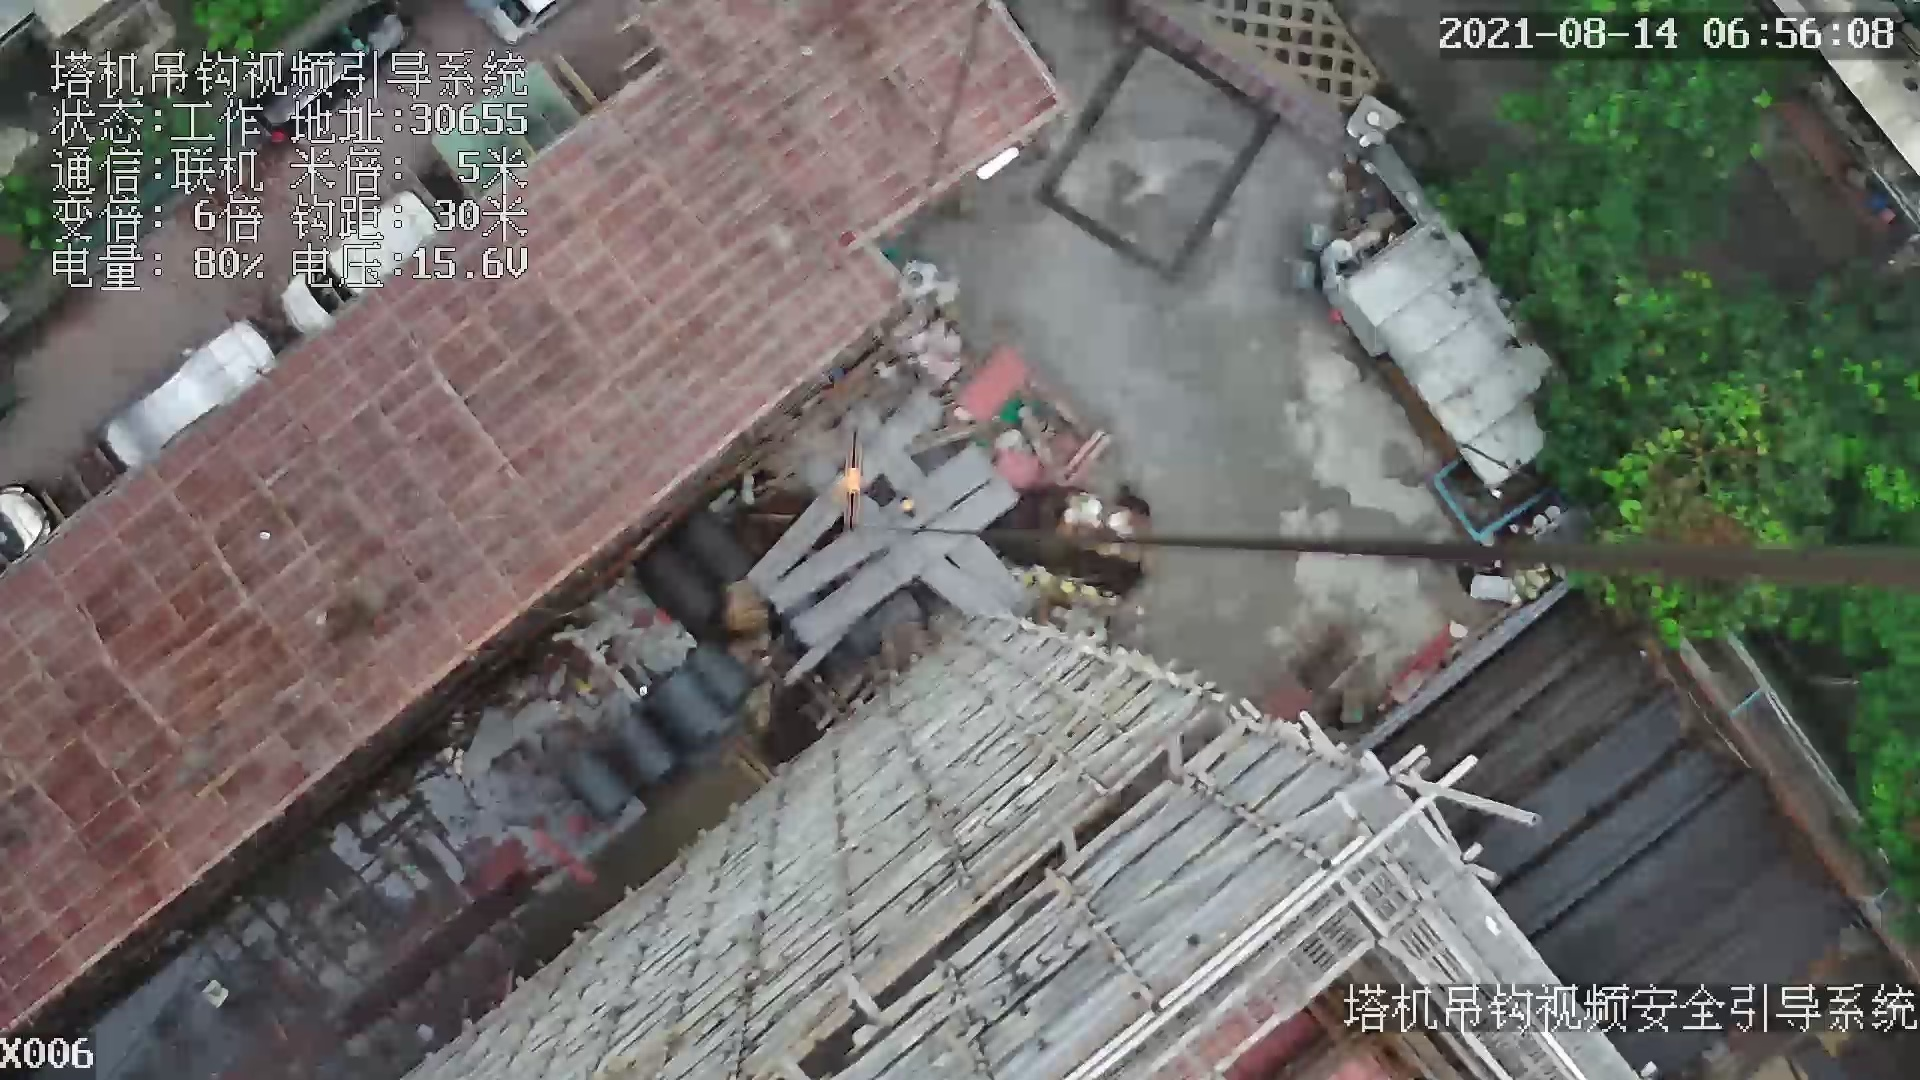hook: (829, 435, 866, 518)
